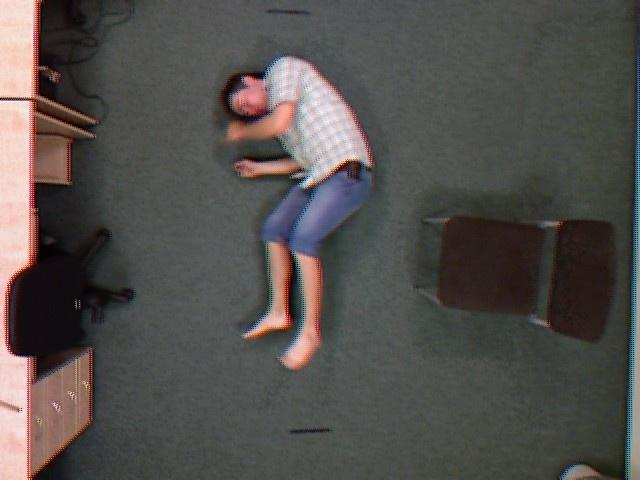fall: (207, 52, 382, 373)
